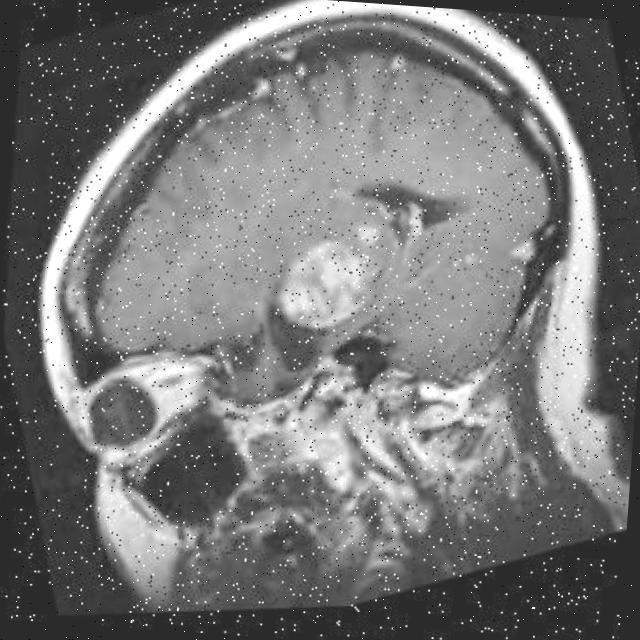CN: (224, 198, 418, 370)
